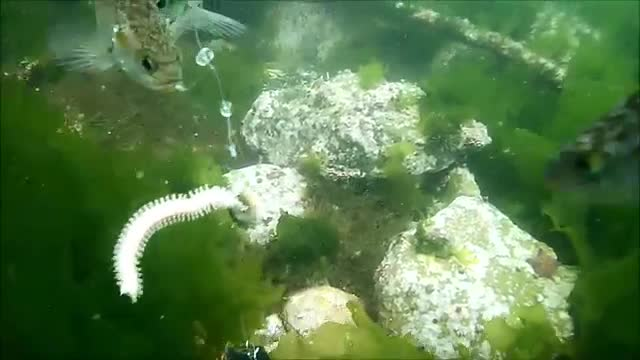mebaru: (46, 0, 206, 106)
